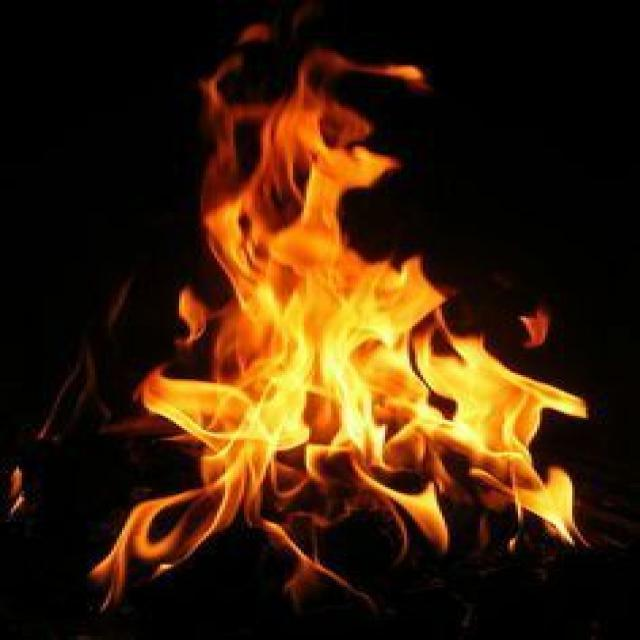Fire: (82, 46, 598, 609)
